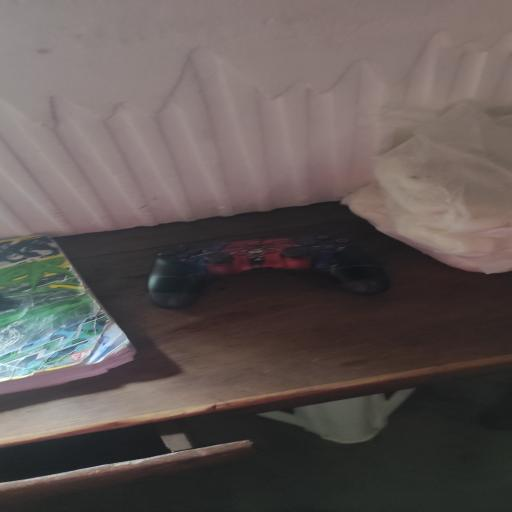ControlPlay4: (148, 234, 390, 310)
